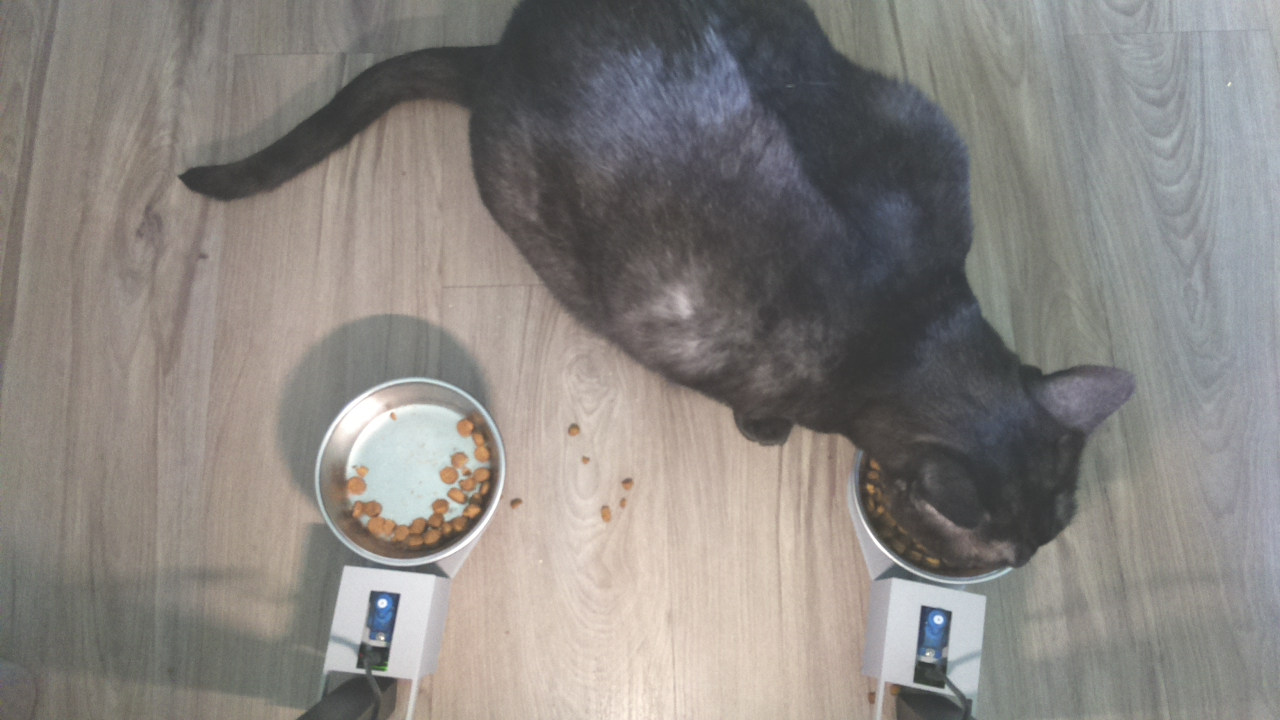open_bowl: (312, 373, 509, 572)
saki_eating: (840, 303, 1142, 592)
